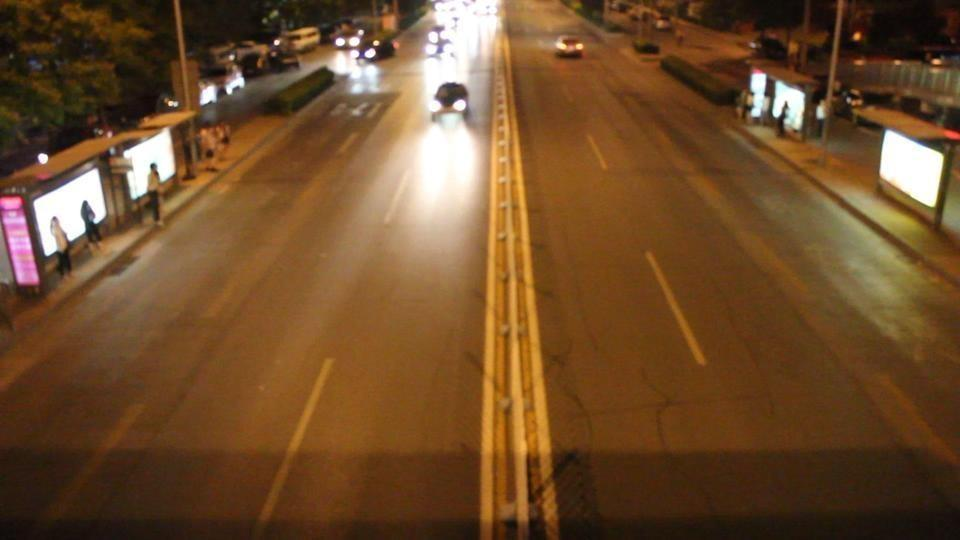car: (199, 61, 246, 104), (229, 41, 283, 77), (431, 82, 471, 121), (354, 34, 399, 62), (278, 25, 321, 54), (751, 35, 788, 61), (330, 20, 364, 48), (424, 27, 452, 58), (553, 35, 585, 59), (633, 40, 660, 54), (654, 17, 672, 32)
